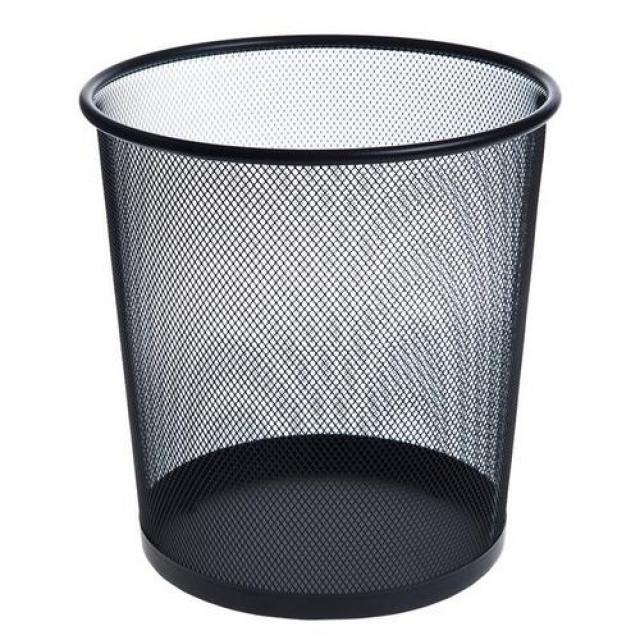Dustbin: (62, 14, 572, 621)
